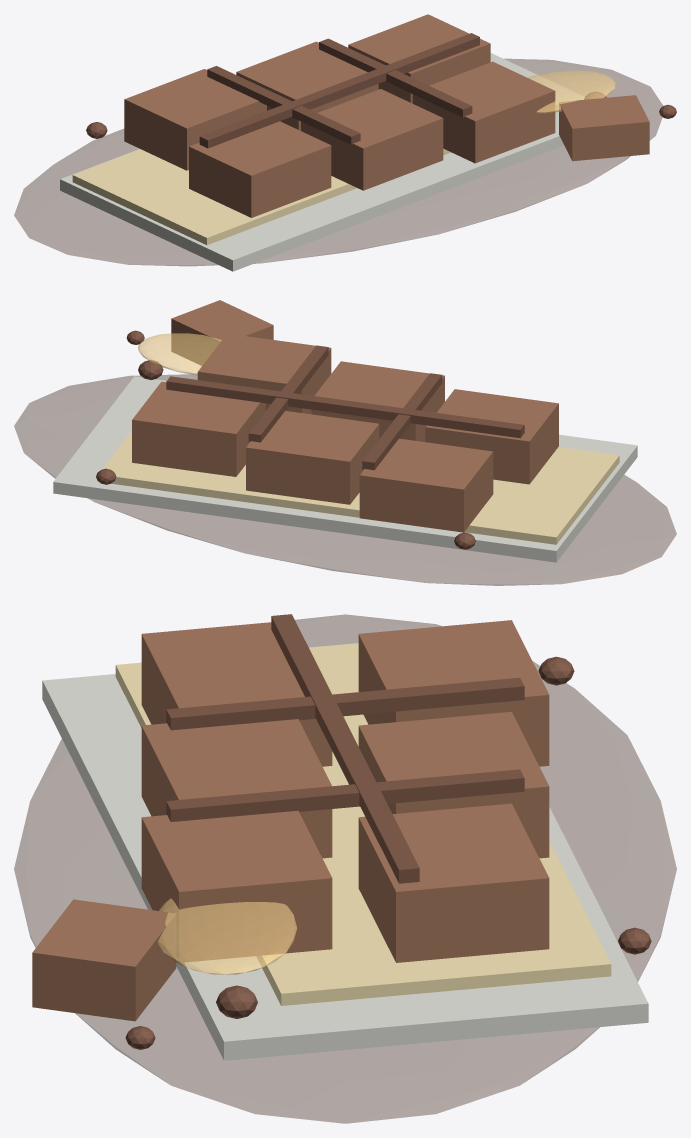
File: sugar_source_chocolate_bar_v1.glb
3 views of the same model, one above another, from view 1: azimuth 30°, elevation 25°; view 2: azimuth 150°, elevation 25°; view 3: azimuth 270°, elevation 25° (orthographic). The views are drawn at different scales.
Parts seen in each view (by area): view 1: soft_shadow_under_chocolate, crumpled_open_foil, chocolate_square_1_0, torn_wrapper_paper, chocolate_square_1_2, chocolate_square_1_1, chocolate_square_0_0, broken_chocolate_chunk, chocolate_square_0_2, chocolate_square_0_1, horizontal_groove, vertical_groove_1 (+2 smaller); view 2: soft_shadow_under_chocolate, crumpled_open_foil, torn_wrapper_paper, chocolate_square_0_0, chocolate_square_0_1, chocolate_square_0_2, chocolate_square_1_0, chocolate_square_1_2, horizontal_groove, chocolate_square_1_1, broken_chocolate_chunk, sweet_filling_spill (+2 smaller); view 3: soft_shadow_under_chocolate, crumpled_open_foil, torn_wrapper_paper, chocolate_square_1_2, chocolate_square_0_2, broken_chocolate_chunk, chocolate_square_1_1, chocolate_square_0_0, chocolate_square_0_1, chocolate_square_1_0, sweet_filling_spill, vertical_groove_1 (+4 smaller).
Part boxes in pixels (<box>): soft_shadow_under_chocolate: <box>14,58,662,266</box>; crumpled_open_foil: <box>60,53,584,271</box>; chocolate_square_1_0: <box>189,121,331,217</box>; torn_wrapper_paper: <box>72,103,558,245</box>; chocolate_square_1_2: <box>412,61,555,163</box>; chocolate_square_1_1: <box>301,89,443,190</box>; chocolate_square_0_0: <box>124,69,266,170</box>; broken_chocolate_chunk: <box>559,95,649,161</box>; chocolate_square_0_2: <box>348,14,490,103</box>; chocolate_square_0_1: <box>236,41,378,130</box>; horizontal_groove: <box>199,33,479,148</box>; vertical_groove_1: <box>319,38,472,117</box>; soft_shadow_under_chocolate: <box>14,374,676,585</box>; crumpled_open_foil: <box>53,376,637,562</box>; torn_wrapper_paper: <box>102,431,619,544</box>; chocolate_square_0_0: <box>359,438,493,532</box>; chocolate_square_0_1: <box>246,411,379,504</box>; chocolate_square_0_2: <box>132,381,265,476</box>; chocolate_square_1_0: <box>425,389,558,484</box>; chocolate_square_1_2: <box>197,333,331,414</box>; horizontal_groove: <box>166,376,524,438</box>; chocolate_square_1_1: <box>311,361,444,441</box>; broken_chocolate_chunk: <box>171,300,273,365</box>; sweet_filling_spill: <box>138,333,221,375</box>; soft_shadow_under_chocolate: <box>14,614,676,1123</box>; crumpled_open_foil: <box>42,674,648,1060</box>; torn_wrapper_paper: <box>115,643,611,1005</box>; chocolate_square_1_2: <box>141,810,332,962</box>; chocolate_square_0_2: <box>358,803,549,962</box>; broken_chocolate_chunk: <box>32,899,176,1021</box>; chocolate_square_1_1: <box>141,719,332,858</box>; chocolate_square_0_0: <box>358,620,549,766</box>; chocolate_square_0_1: <box>358,712,549,858</box>; chocolate_square_1_0: <box>141,622,332,766</box>; sweet_filling_spill: <box>158,898,296,974</box>; vertical_groove_1: <box>166,769,524,821</box>.
Size of the model in its own units: 2 by 0.2475 by 1.1.
